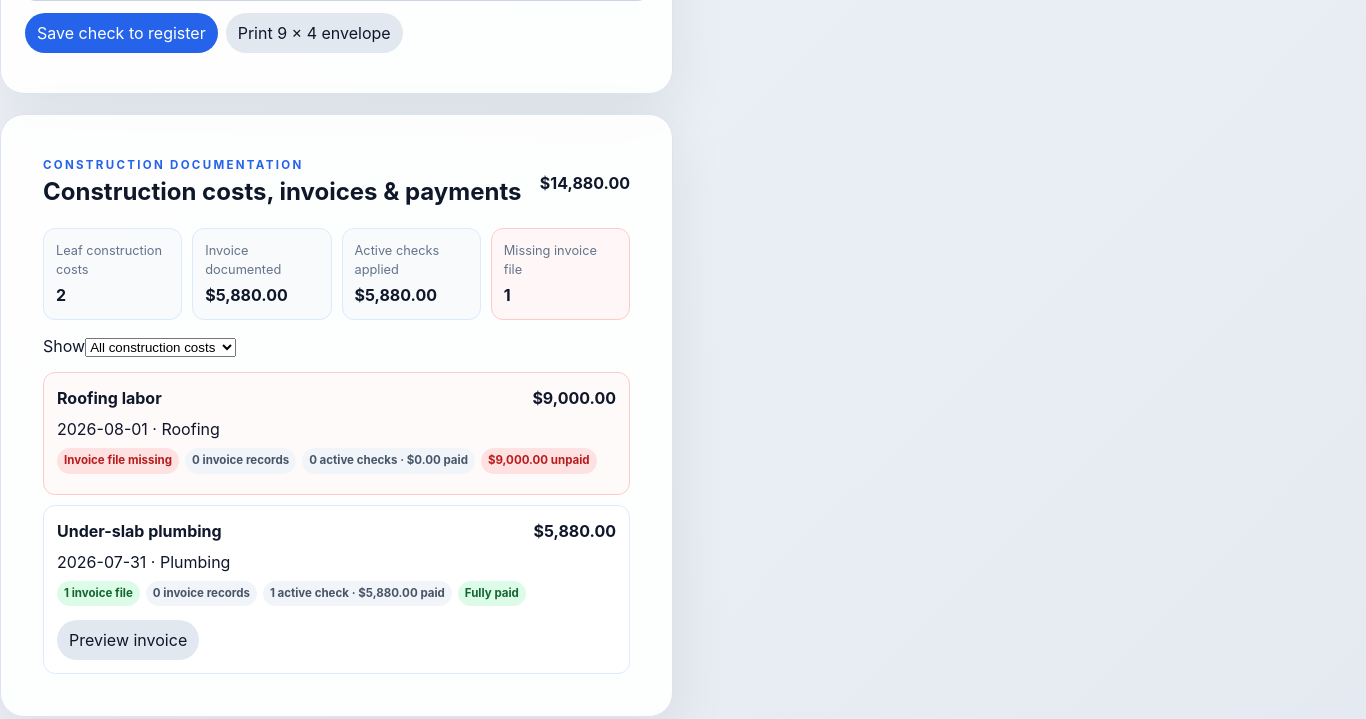
Test: CheckPrinting › tracks leaf construction costs with invoice and active-check coverage
(page scrolled)
Expected: the heading "Construction costs, invoices & payments" is shown, [43,174,522,210]
Expected: the text "Under-slab plumbing" is shown, [57,519,222,543]
Select "Missing invoice file" in the dropdown named "Filter construction invoice coverage". click: (161, 348)
box: [85,338,236,357]
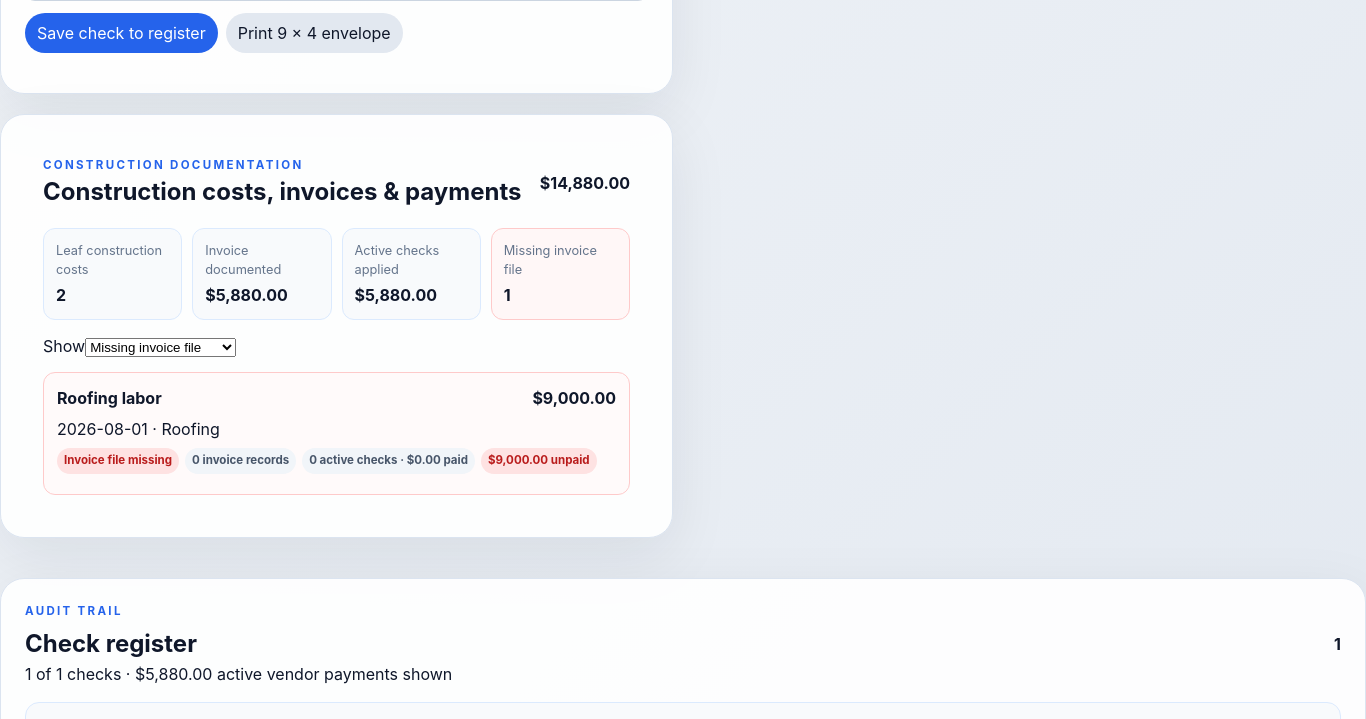
Expected: the text "Roofing labor" is shown, [57,386,162,410]
Expected: the text "Under-slab plumbing" is gone
